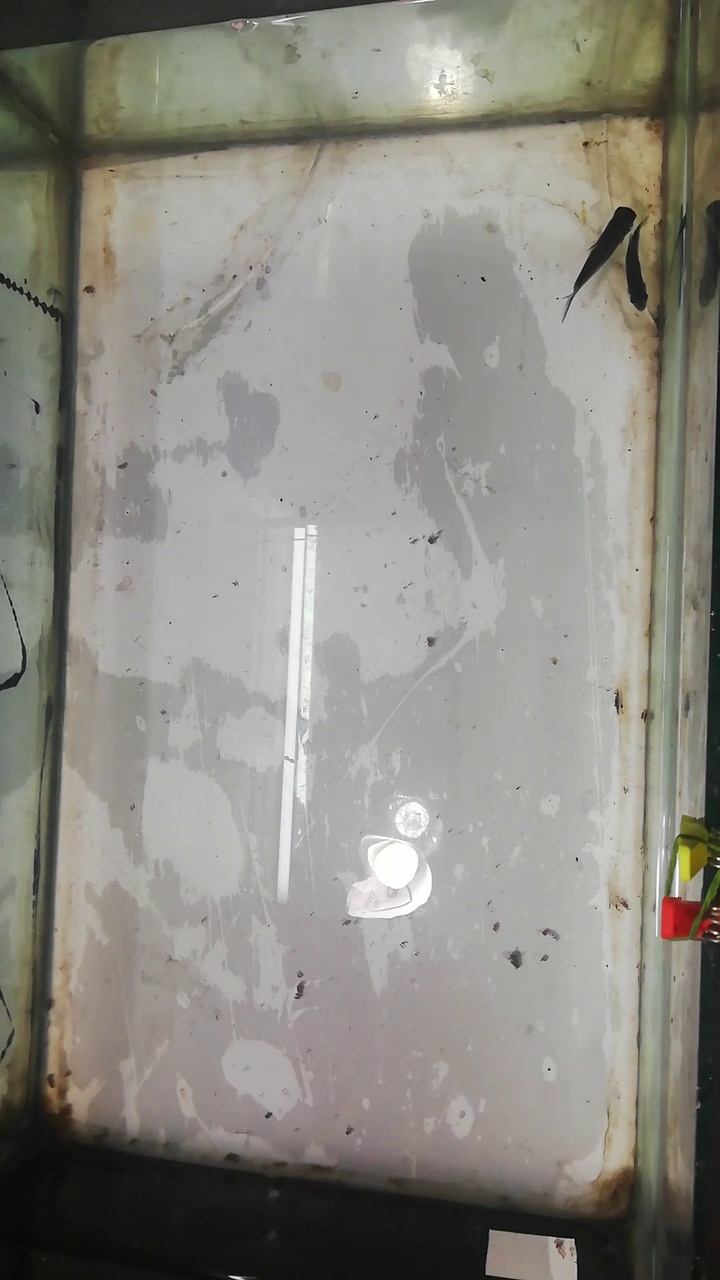fish1: (571, 204, 636, 302)
fish2: (629, 217, 651, 312)
